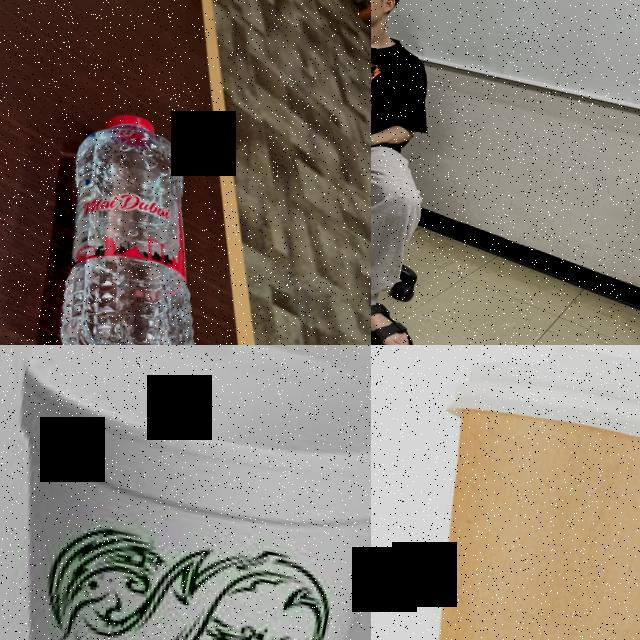bottle: (10, 100, 242, 345)
cup: (0, 345, 371, 640), (382, 345, 640, 640)
